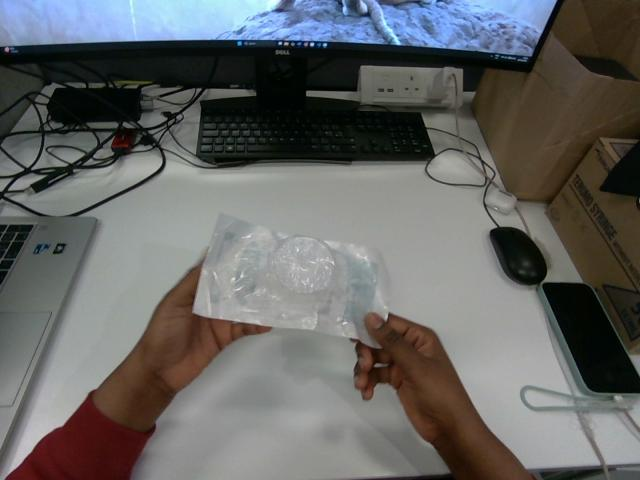gallipot: (193, 214, 389, 345)
